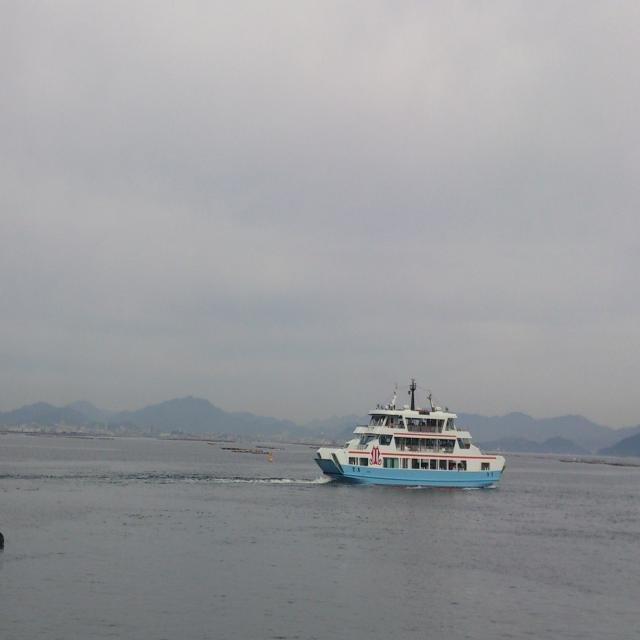passenger ship: (304, 396, 508, 488)
